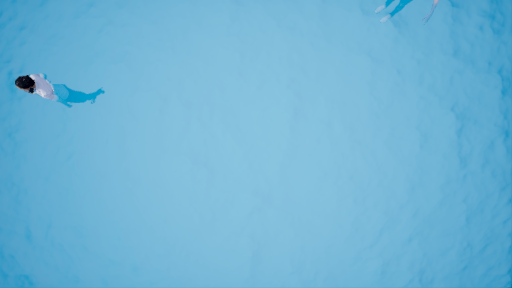person: (13, 71, 109, 111)
